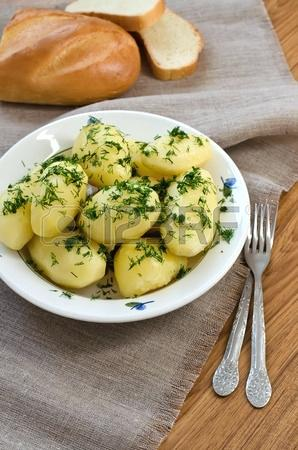boiled potatoes: (10, 130, 218, 279)
